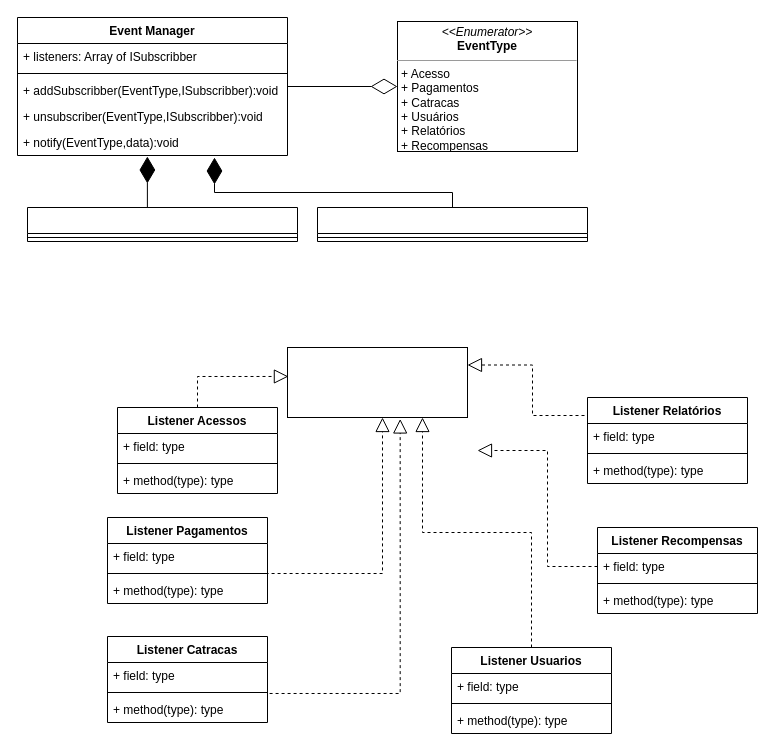
Image size: 775x754. Some labels were removed from this diagram. Each missing label, with the centre of its shape:
"<<Interface>> ISubscribber + ExecuteEvent(Context): void" belongs at point 377,382.
"Publisher Serial" belongs at point 452,224.
"Publisher Tela" belongs at point 162,224.
